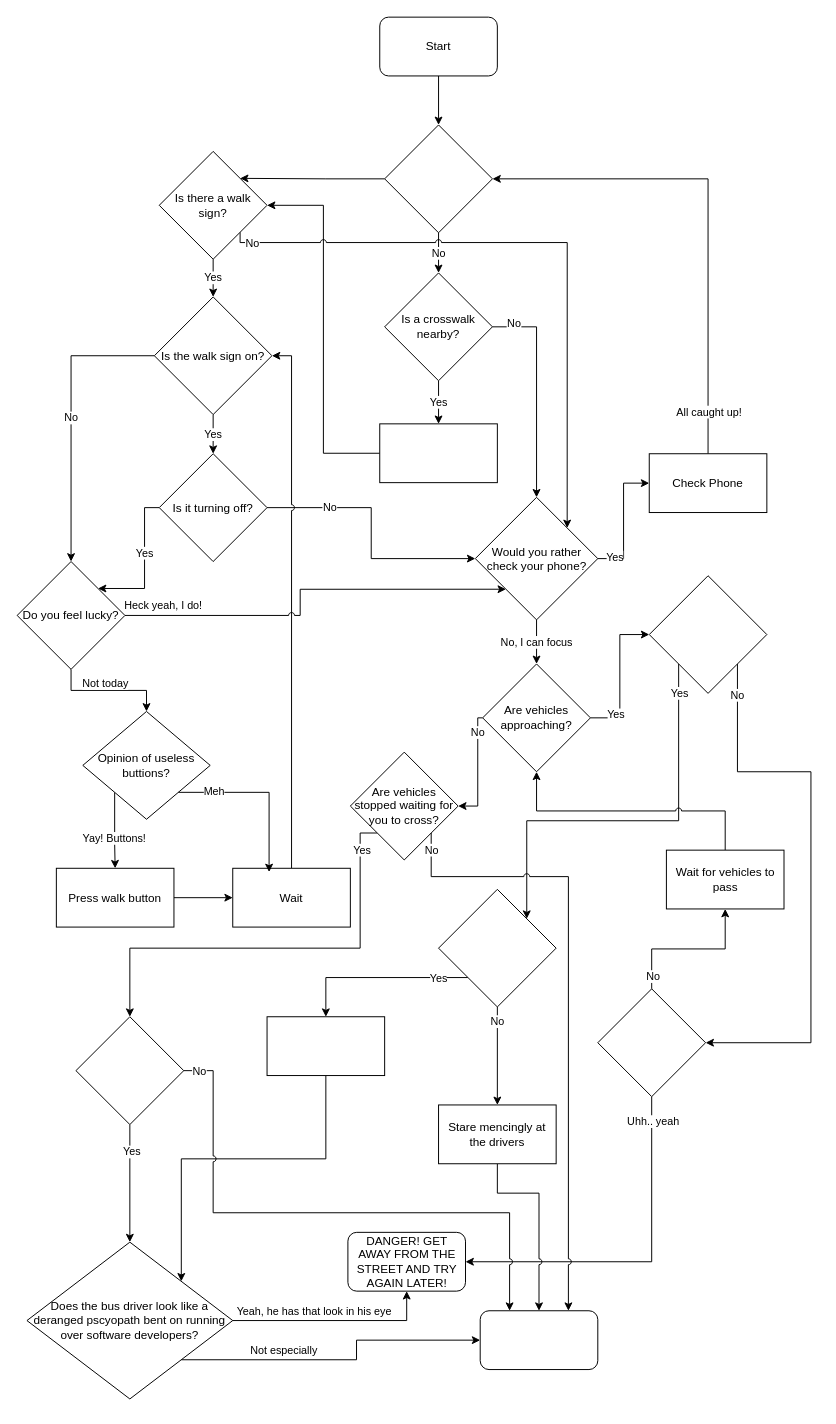
Some shapes in this 836 by 1424 pixel diagram are drawn without their labels. The centre of each missing label's shape, as x and y in pixels:
"Are the vehicles slowing down for you?" goes at point 707,634.
"Are you at a crosswalk?" goes at point 438,178.
"Carefully cross the street" goes at point 538,1340.
"Is a bus approaching?" goes at point 651,1042.
"Is one of slowing vehicles a bus?" goes at point 497,947.
"Is one of the stopped vehicles a bus?" goes at point 129,1070.
"Wait for all vehicles to come to a complete stop" goes at point 325,1046.
"Walk to the crosswalk" goes at point 438,453.
